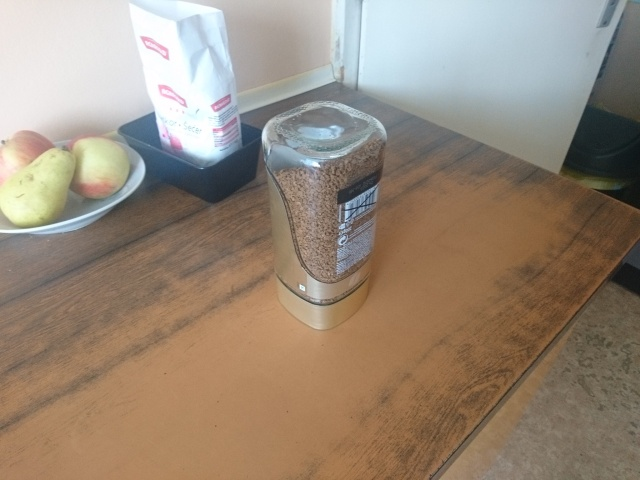Nescafe Gold 225g: (257, 98, 391, 333)
